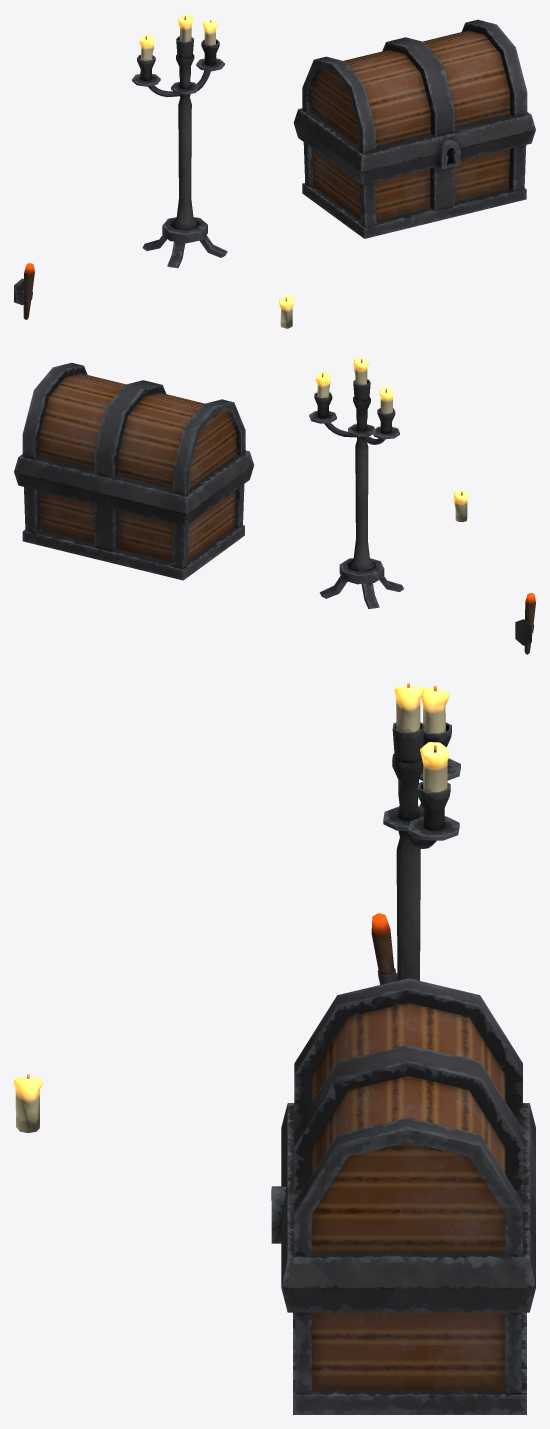
Rendered from chest_torches.fbx.
3 views of the same model, one above another, from view 1: azimuth 30°, elevation 25°; view 2: azimuth 150°, elevation 25°; view 3: azimuth 270°, elevation 25° (orthographic). The views are drawn at different scales.
Visible parts, largest first — view 1: Chest Cover, Chest, Candlestick, Torcch, Candle; view 2: Chest Cover, Chest, Candlestick, Torcch, Candle; view 3: Chest Cover, Chest, Candlestick, Candle, Torcch.
Boxes of the visible parts, x1,y1,x2,y2 form: Chest Cover: (293,19,535,172); Chest: (293,123,535,238); Candlestick: (132,14,227,268); Torcch: (14,263,34,319); Candle: (279,296,294,328); Chest Cover: (14,362,253,513); Chest: (14,465,253,580); Candlestick: (309,357,403,608); Torcch: (515,593,535,654); Candle: (453,490,468,522); Chest Cover: (281,978,535,1287); Chest: (271,1186,535,1414); Candlestick: (383,683,460,980); Candle: (14,1074,42,1133); Torcch: (371,913,397,984).
Size of the model in its own units: 314 by 160 by 154.
